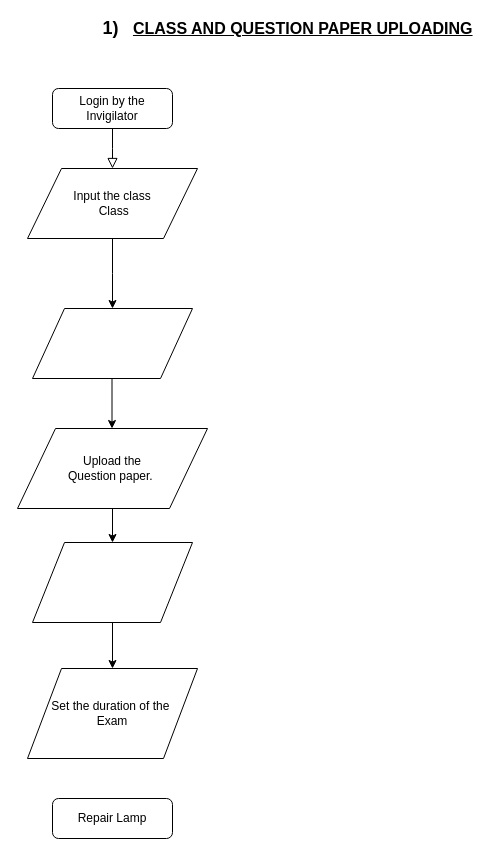
This 500x856 diagram has some shape labels left out. The shapes that lost their labels are listed below. From the top down, each one's box as (x1, y1, x2, y2) in pixels, then its label:
(32, 308, 192, 378): Input the subject
(32, 542, 192, 622): Set the time and date for the exam
